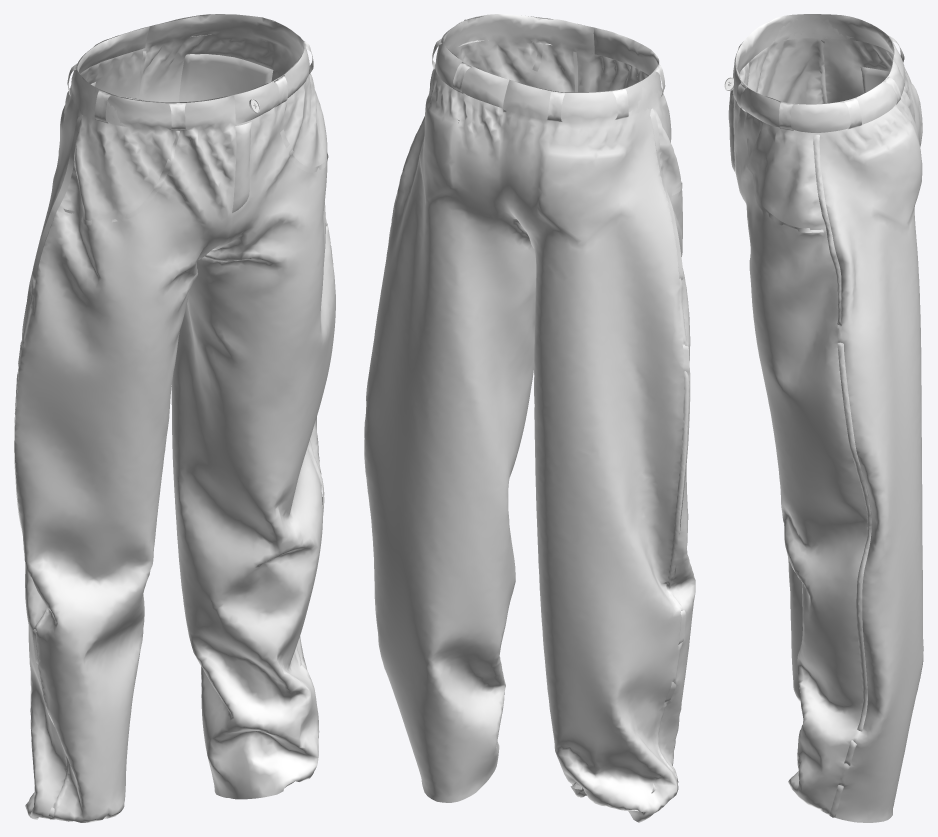
Rendered from pantalon.glb.
3 views of the same model, side by side, from view 1: azimuth 30°, elevation 25°; view 2: azimuth 150°, elevation 25°; view 3: azimuth 270°, elevation 25° (orthographic). The views are drawn at different scales.
Parts seen in each view (by area): view 1: Pants LP v2; view 2: Pants LP v2; view 3: Pants LP v2.
Part boxes in pixels (x1,y1,x2,y2): Pants LP v2: (14, 14, 335, 822); Pants LP v2: (364, 14, 695, 822); Pants LP v2: (724, 14, 923, 822).
Size of the model in its own units: 0.4907 by 1.13 by 0.2831.
Materials: 2 (2 with a texture image).
